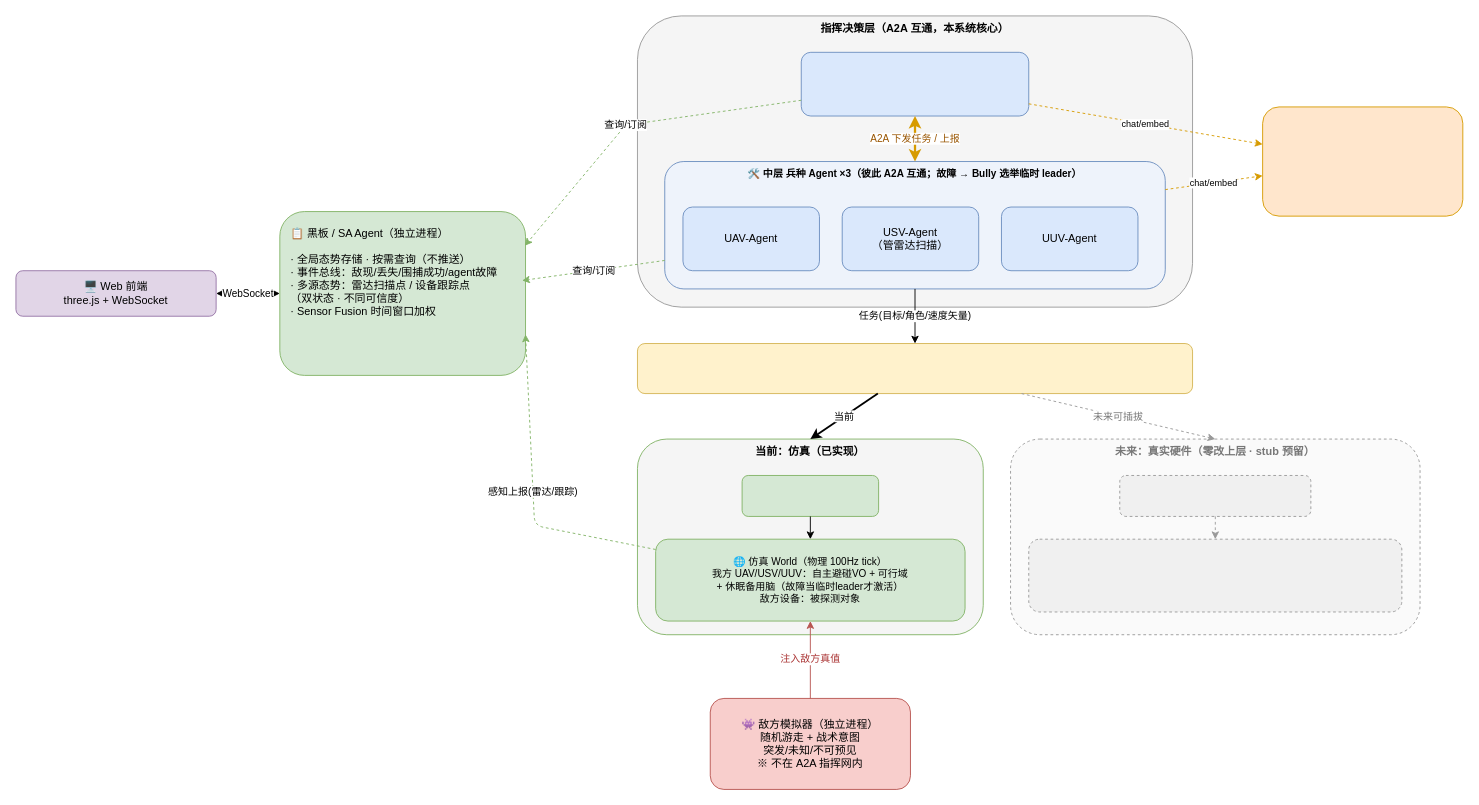
Image size: 1479x805. Some labels were removed from this diagram. The shapes that lost their labels are listed below. From the top down, each one's centre as x and y in pixels, then its label:
the point at 914,83: 🎯 L1 顶层统筹 Agent 战略任务 / 调配 / RAG
the point at 1362,161: ⚙️ 统一模型工厂 ModelFactory （全系统唯一模型入口，零判断） 当前：云端API(调试) / 本地模型(部署证明) 未来：迁机房高算力服务器
the point at 915,368: 🔌 DeviceDriver 端口-适配器（L2↔设备统一抽象，语义对齐 MAVLink）
the point at 810,495: SimDriver
the point at 1215,495: MavlinkDriver / ROSDriver
the point at 1215,575: 🚁 真实无人机 · 🚤 无人艇 · 🛥️ 无人潜航器 （接入真实硬件，MAVLink/ROS2）
